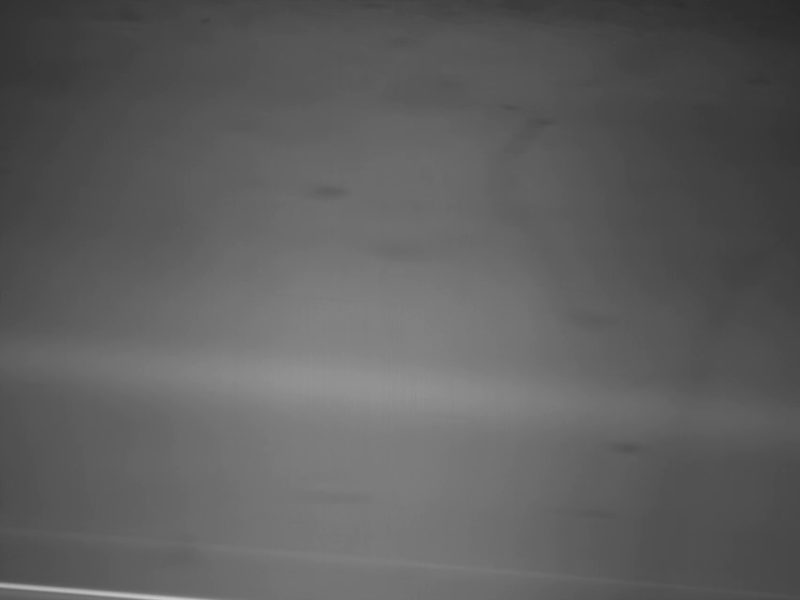bead: (301, 180, 351, 201), (607, 434, 643, 457)
